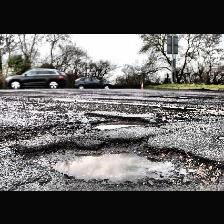pothole: (22, 136, 222, 186), (86, 111, 150, 129), (0, 125, 36, 143), (148, 94, 190, 98), (164, 106, 196, 110)
